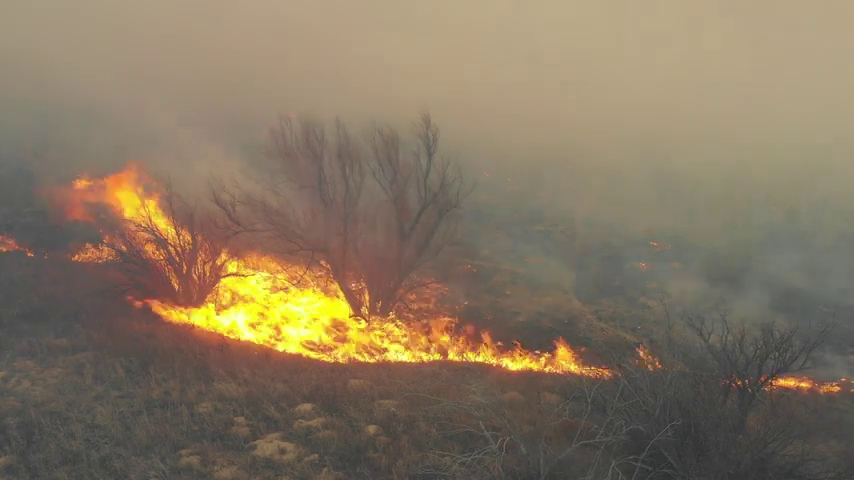forest_fire: (133, 251, 612, 377), (104, 169, 188, 239), (771, 377, 844, 392), (72, 244, 117, 261)
